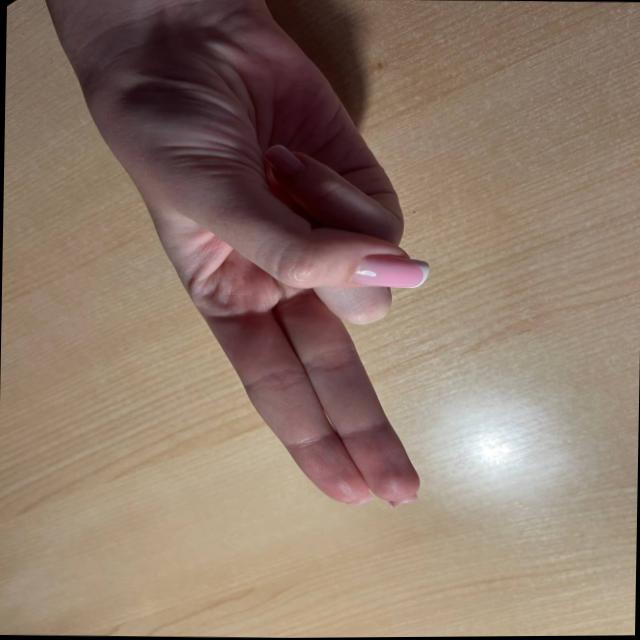ts: (72, 36, 460, 542)
